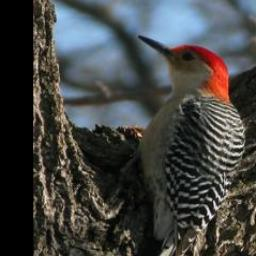Woodpecker: (116, 32, 251, 256)
